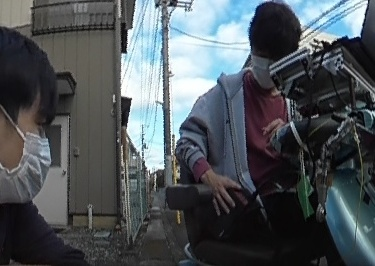person: (176, 2, 315, 250)
